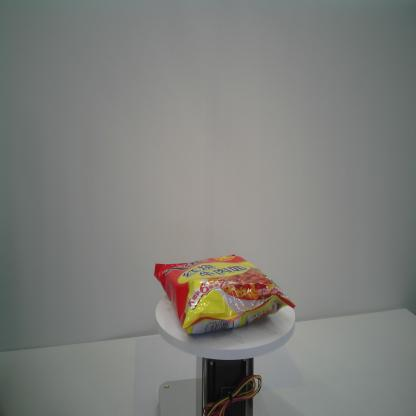Instant Noodles: (153, 254, 296, 335)
